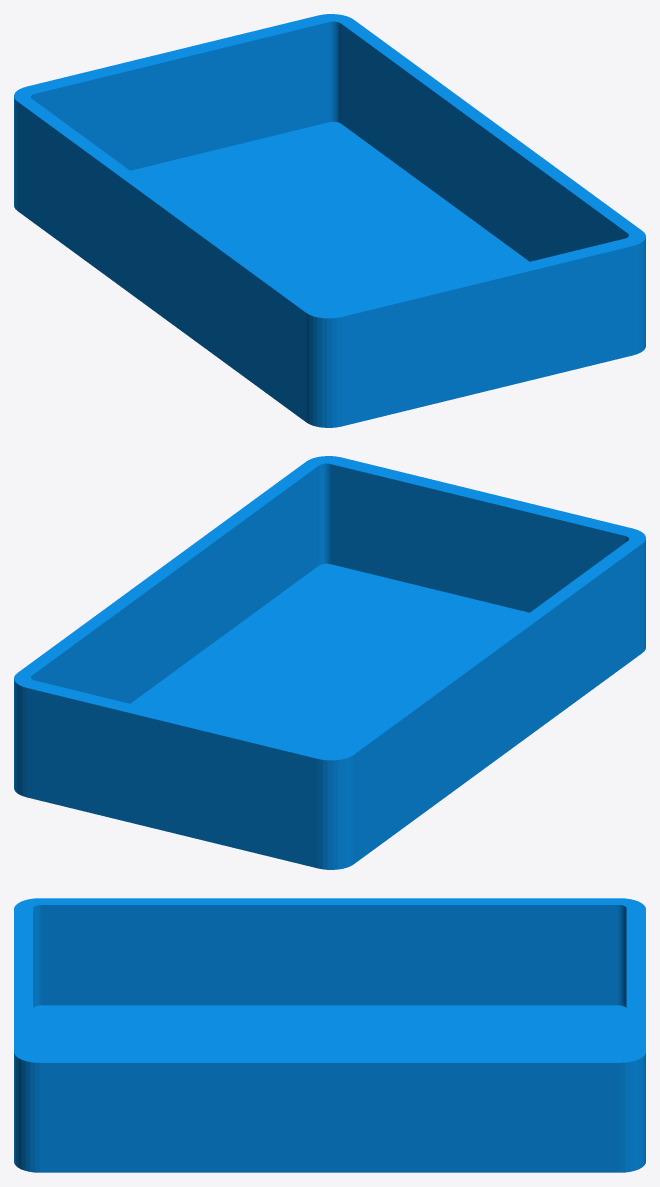
Rendered from tray.glb.
3 renders of one model, top to bottom at view 1: azimuth 30°, elevation 25°; view 2: azimuth 150°, elevation 25°; view 3: azimuth 270°, elevation 25°, orthographic.
Parts seen in each view (by area): view 1: tray; view 2: tray; view 3: tray.
Boxes of the visible parts, left/top/right/bottom form: tray: left=14, top=14, right=645, bottom=427; tray: left=14, top=456, right=645, bottom=869; tray: left=14, top=898, right=645, bottom=1172.
Bounding box in the file's own units: 0.45 × 0.1401 × 0.73.
